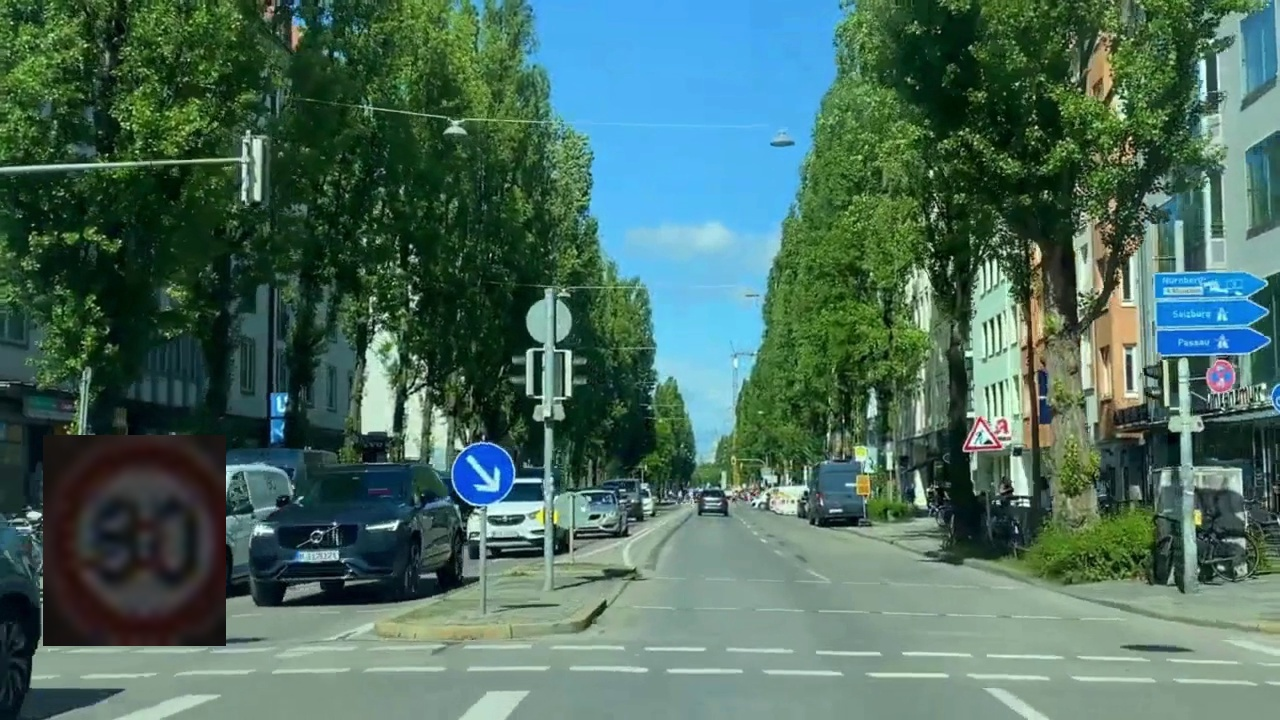Speed 80: (43, 435, 226, 646)
